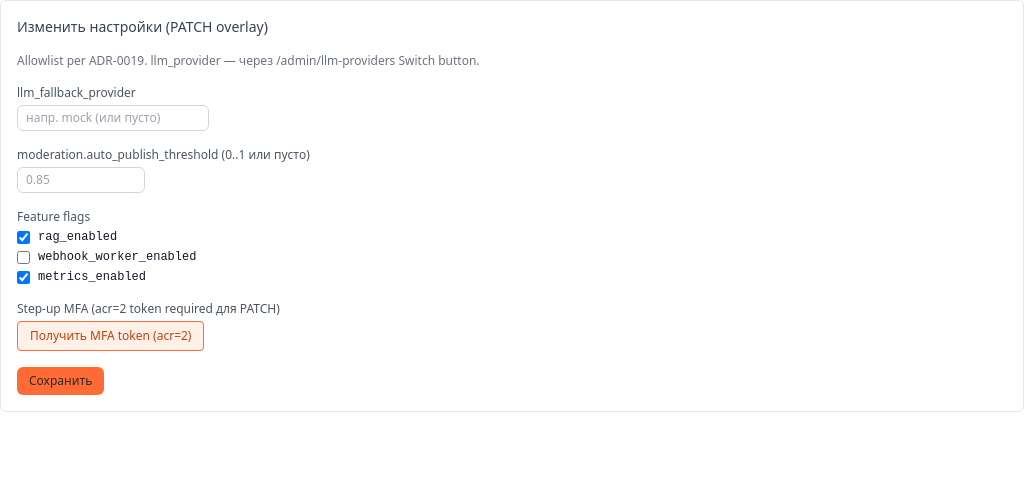
SystemConfigEditForm › blocks PATCH if MFA token не acquired (#337)
Step 1. Click the checkbox labelled "metrics_enabled" → (24, 277), box [17,270,30,284]
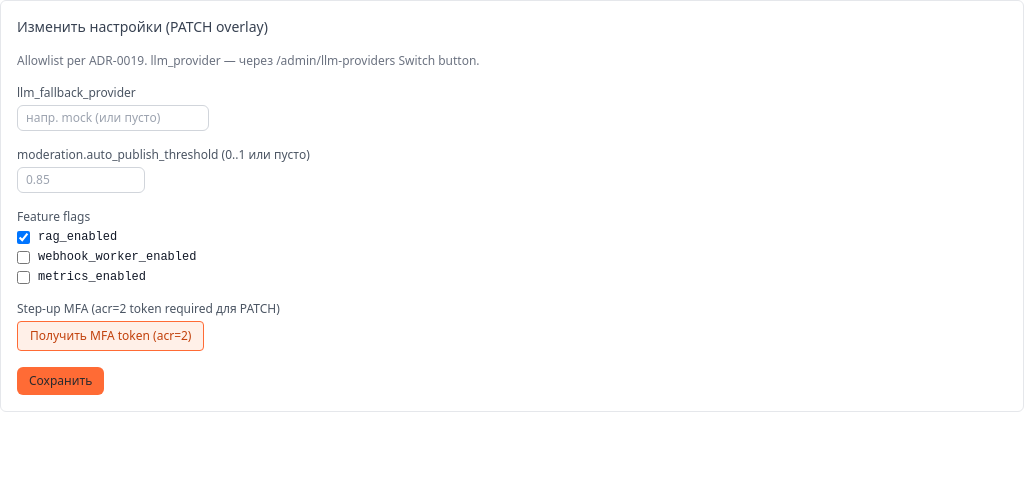
Step 2. Click the button "Сохранить" → (61, 381), box [17,367,104,395]
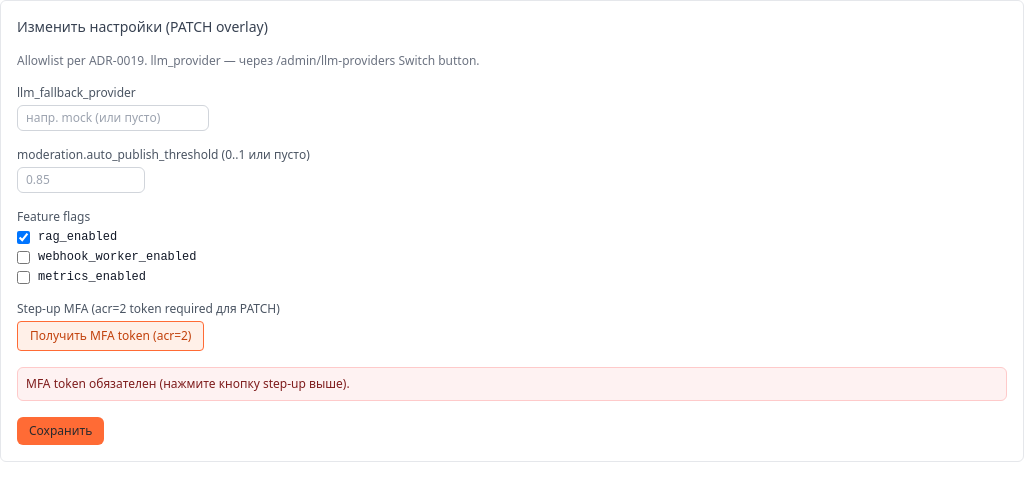
Result: the message shows "MFA token обязателен" at [26,375,350,392]
